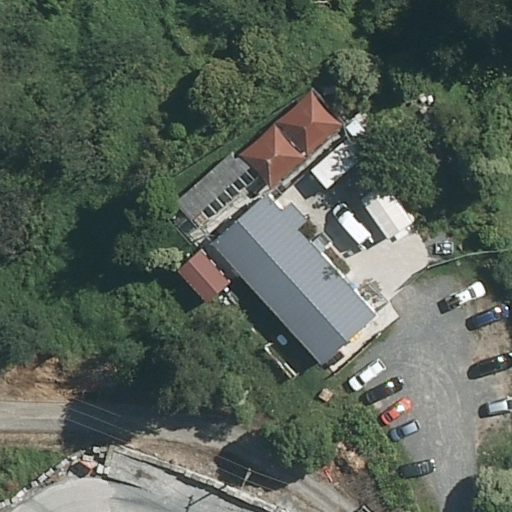DT: (234, 468, 253, 497)
